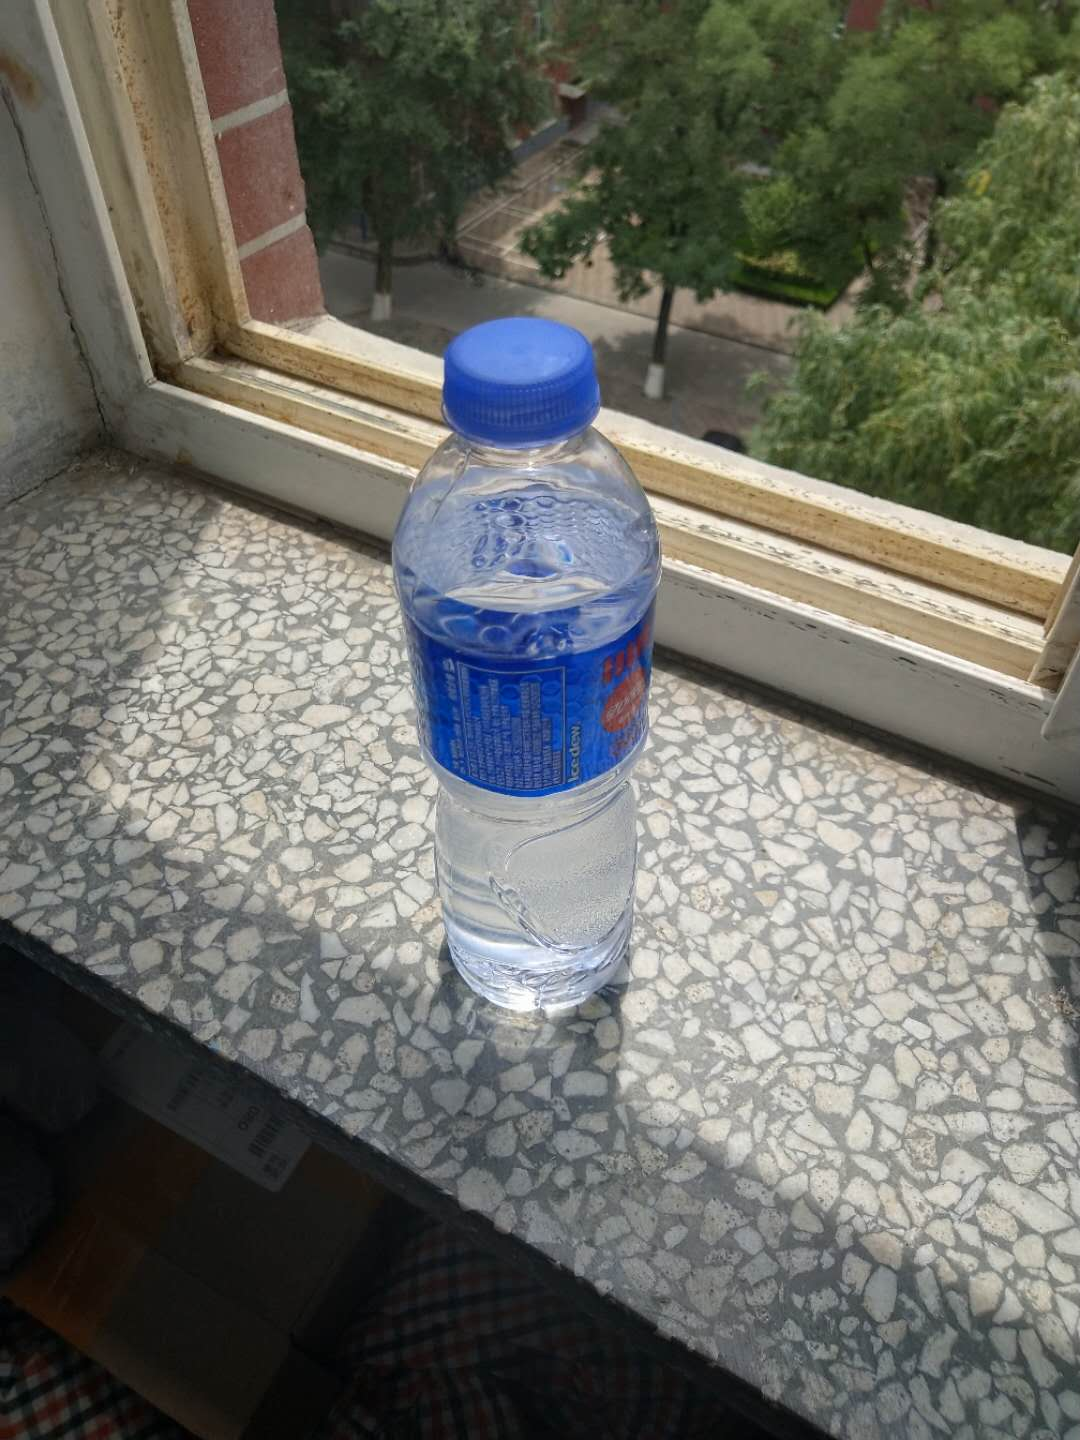冰露: (373, 325, 670, 1020)
